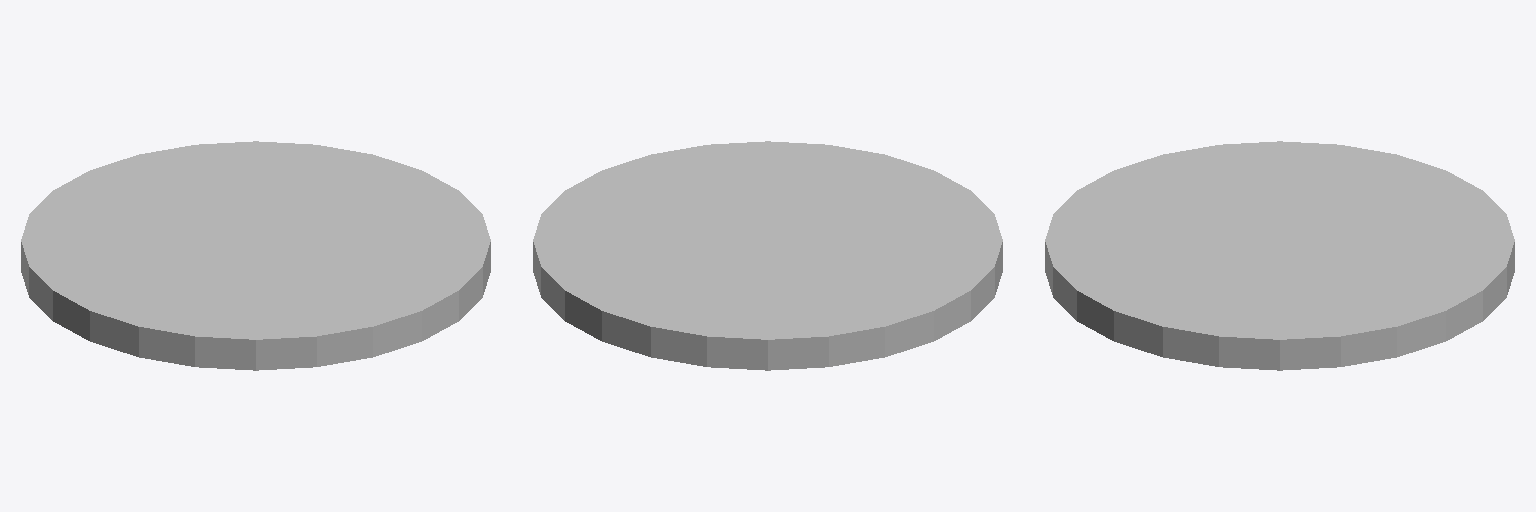
File: hotplate_4.obj
3 renders of one model, left to right at view 1: azimuth 30°, elevation 25°; view 2: azimuth 150°, elevation 25°; view 3: azimuth 270°, elevation 25°, orthographic.
Parts seen in each view (by area): view 1: hot_plate_4 stovetop; view 2: hot_plate_4 stovetop; view 3: hot_plate_4 stovetop.
Boxes of the visible parts, box(x1,y1,x2,y2) form: hot_plate_4 stovetop: box(21, 141, 490, 370); hot_plate_4 stovetop: box(533, 141, 1002, 370); hot_plate_4 stovetop: box(1045, 141, 1514, 370).
Bounding box in the file's own units: 2.65 × 0.1917 × 2.65.